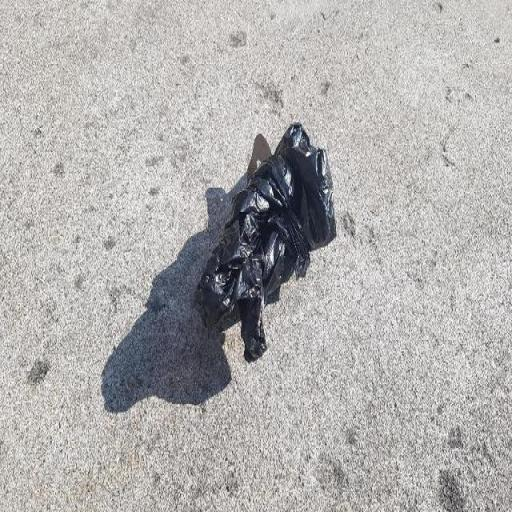plastic-bag: (192, 118, 338, 365)
